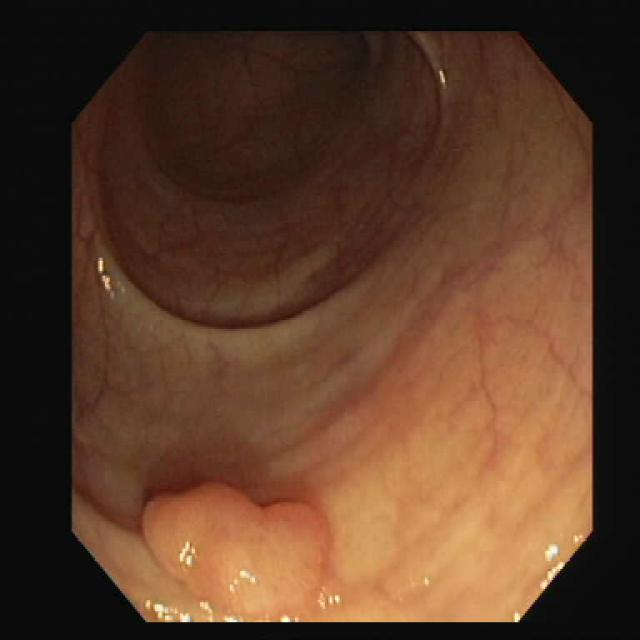tumor: (142, 484, 325, 620)
